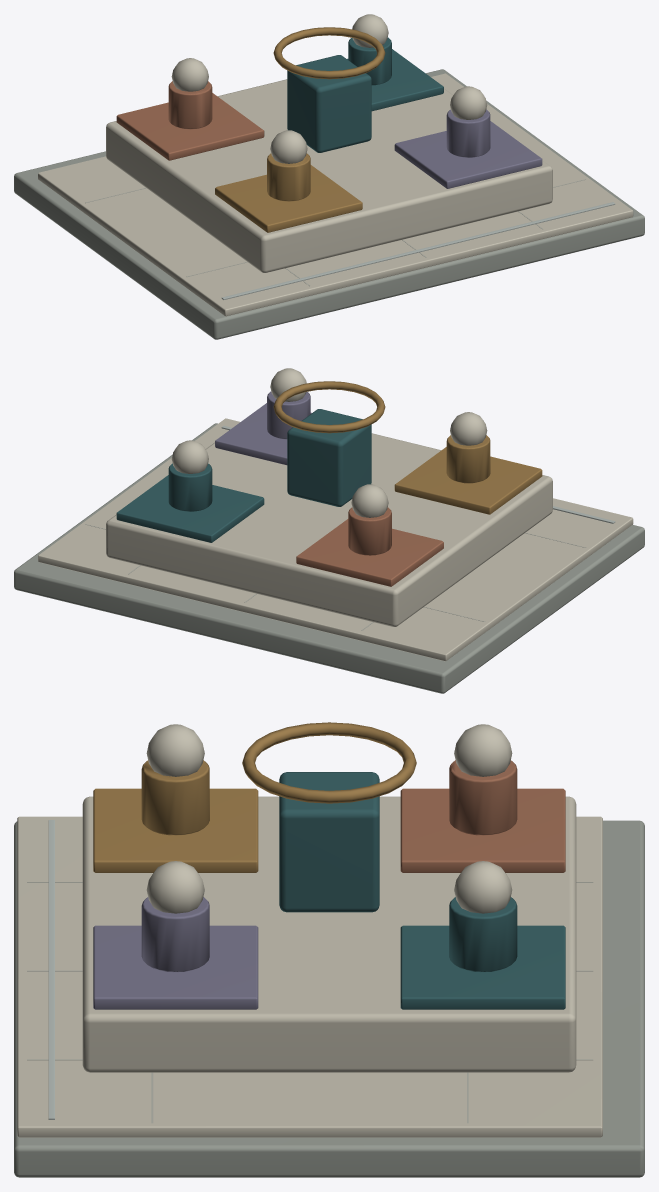
The model's file is idea-fb1cc5af.glb.
The picture shows the model from 3 angles, top to bottom: view 1: azimuth 30°, elevation 25°; view 2: azimuth 150°, elevation 25°; view 3: azimuth 270°, elevation 25°; orthographic projection. The views are drawn at different scales.
Visible parts, largest first — view 1: 4D Ludo & Indian Game Lab; view 2: 4D Ludo & Indian Game Lab; view 3: 4D Ludo & Indian Game Lab.
Part boxes in pixels (x1,y1,x2,y2): 4D Ludo & Indian Game Lab: (14, 14, 644, 339); 4D Ludo & Indian Game Lab: (14, 368, 644, 693); 4D Ludo & Indian Game Lab: (14, 722, 644, 1177).
Bounding box in the file's own units: 4.8 × 1.75 × 3.9.
